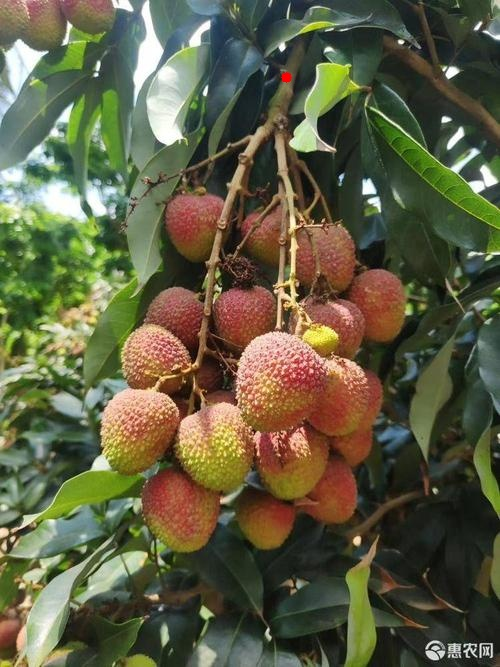litchi: (109, 196, 397, 547), (1, 1, 113, 51)
stem: (250, 25, 310, 146)
